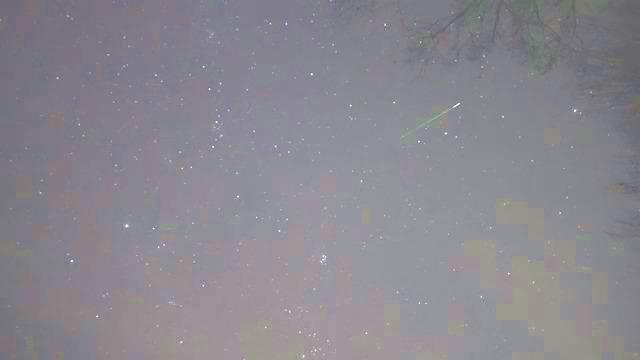meteorite: (397, 97, 474, 135)
